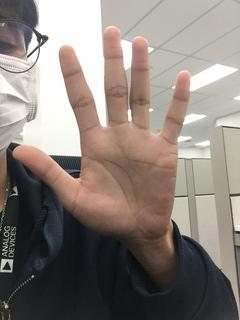hand: (9, 22, 194, 245)
